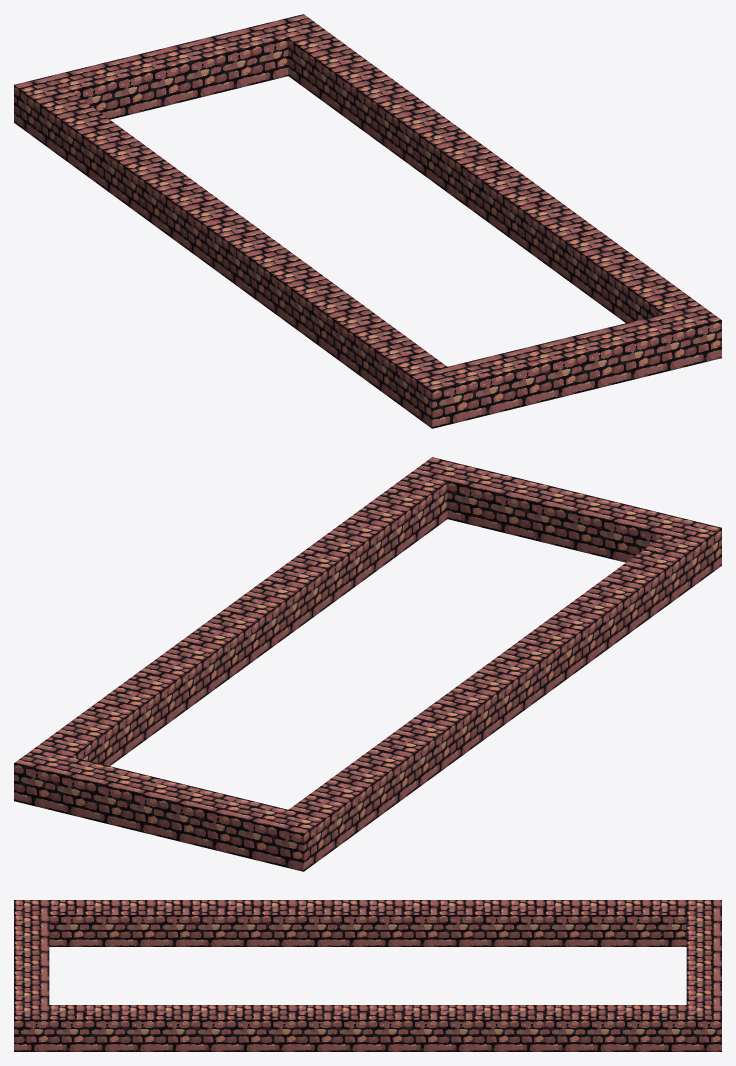
The model's file is GardenBed.obj.
3 renders of one model, top to bottom at view 1: azimuth 30°, elevation 25°; view 2: azimuth 150°, elevation 25°; view 3: azimuth 270°, elevation 25°, orthographic. The views are drawn at different scales.
Parts seen in each view (by area): view 1: GardenBed; view 2: GardenBed; view 3: GardenBed.
Boxes of the visible parts, x1,y1,x2,y2 form: GardenBed: [14, 14, 721, 428]; GardenBed: [14, 457, 721, 871]; GardenBed: [14, 900, 721, 1051].
Bounding box in the file's own units: 4 × 0.5 × 10.
